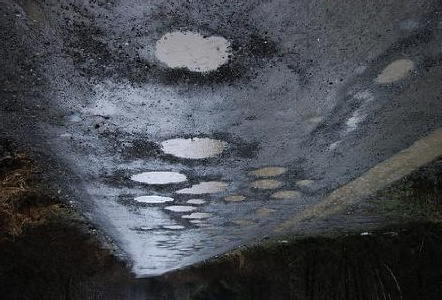pothole: (142, 29, 241, 84), (152, 134, 233, 163), (125, 169, 190, 189), (371, 59, 416, 87), (174, 179, 231, 197), (243, 165, 288, 179), (131, 193, 177, 206), (248, 178, 285, 190), (268, 189, 304, 200), (179, 211, 215, 220), (165, 204, 199, 213), (160, 224, 185, 232), (223, 196, 247, 204)
